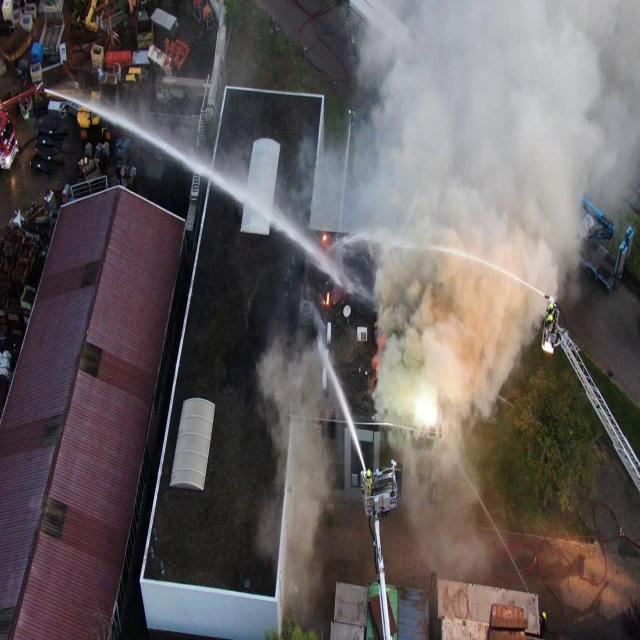Fire: (414, 394, 438, 428), (326, 293, 330, 305), (322, 300, 326, 305), (322, 236, 326, 240)
Smoke: (256, 0, 640, 613)
